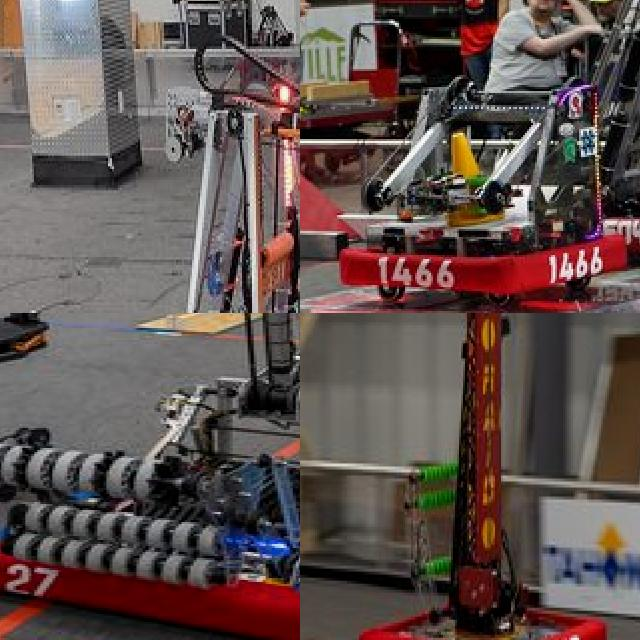FRC-Robots: (0, 313, 300, 634), (348, 313, 624, 640), (339, 62, 640, 308), (120, 20, 300, 313), (596, 44, 640, 271)
